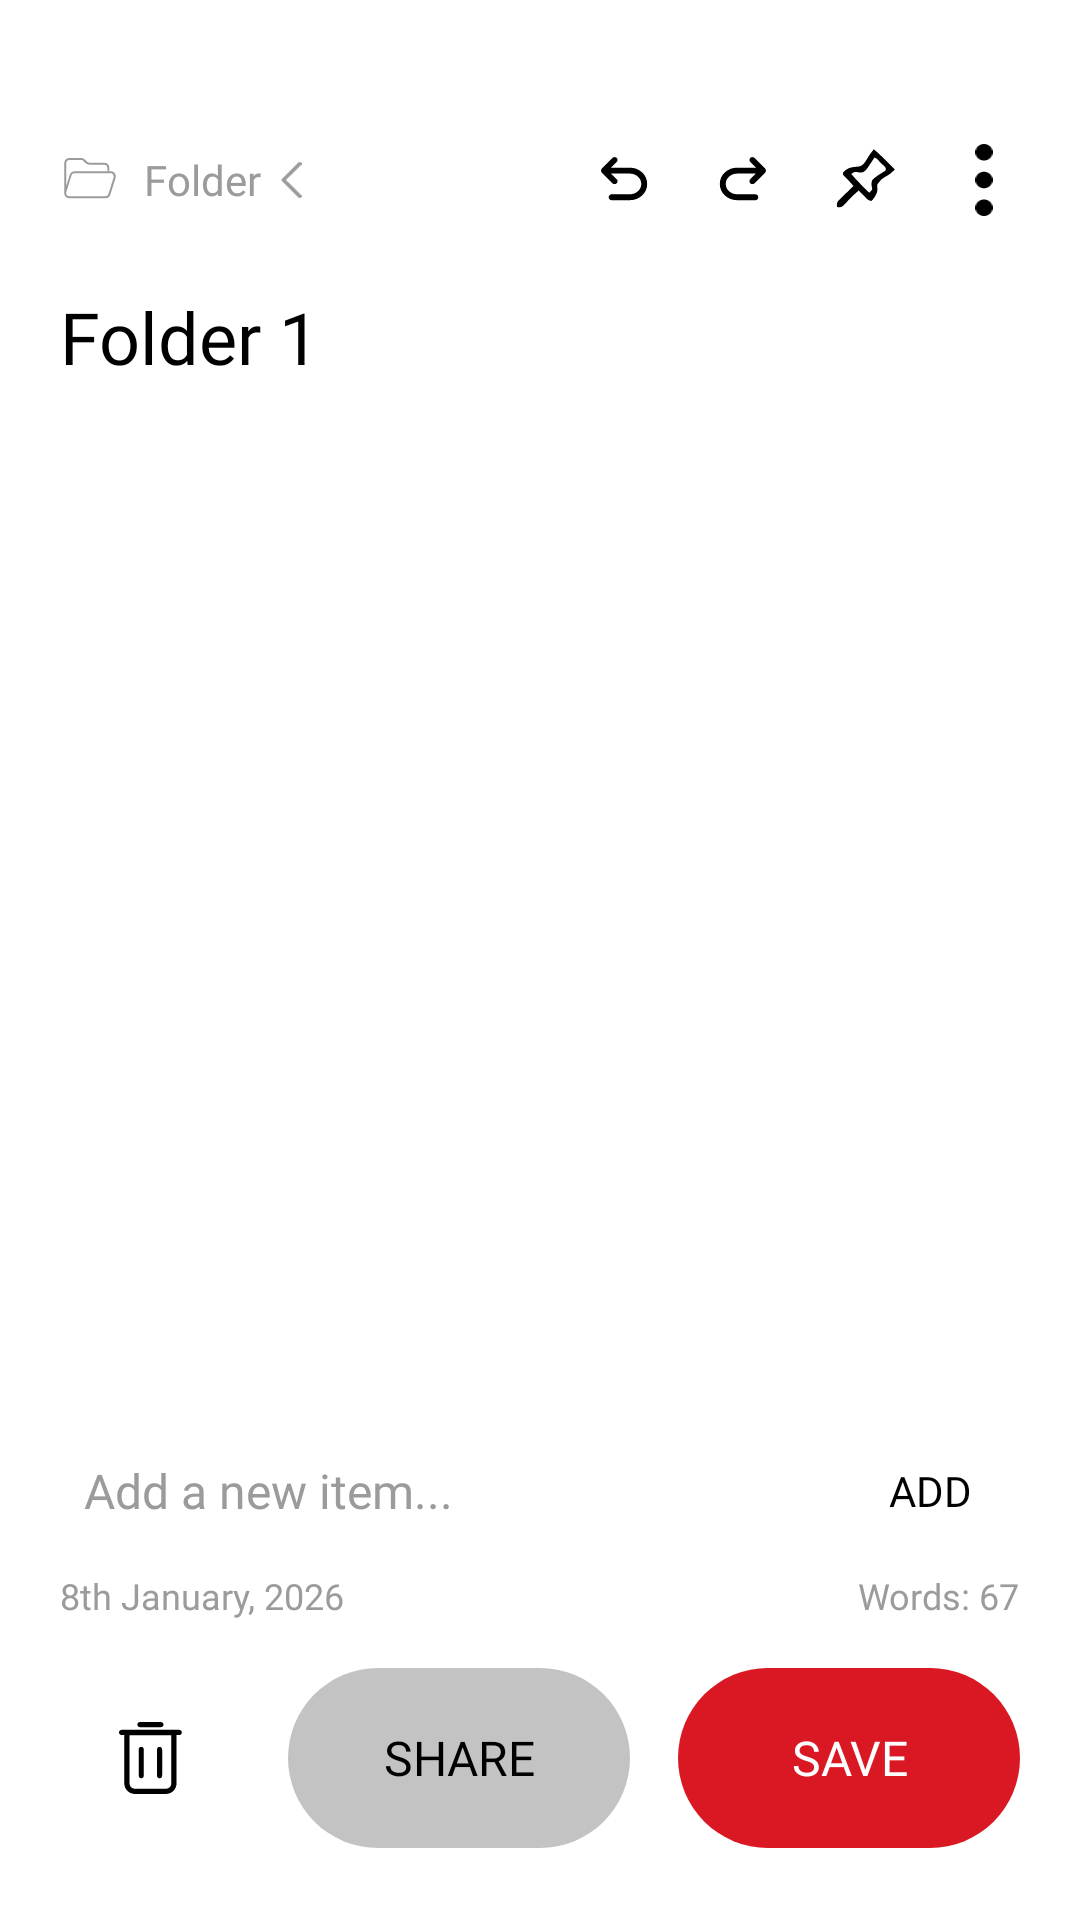

Screen size 1080px x 1920px. Icon name, then its box in pixels as (x1,y1,x2,y2):
Delete: (119,1722,182,1794)
Menu: (975,144,993,216)
Pin: (836,149,895,208)
Redo: (719,157,766,201)
Undo: (601,157,647,201)
